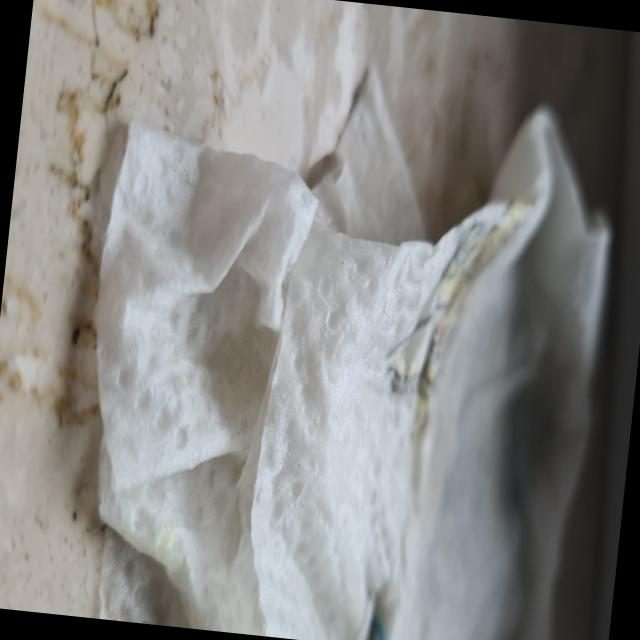organic waste: (57, 42, 628, 640)
